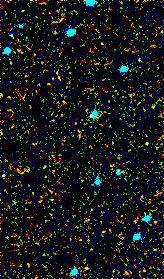star: (136, 131, 164, 161)
